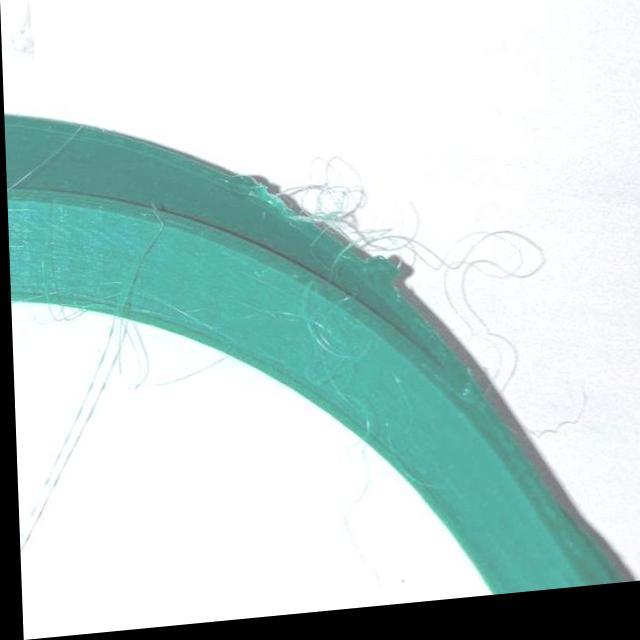stringing: (18, 281, 147, 531), (288, 178, 372, 234), (347, 230, 420, 269)
